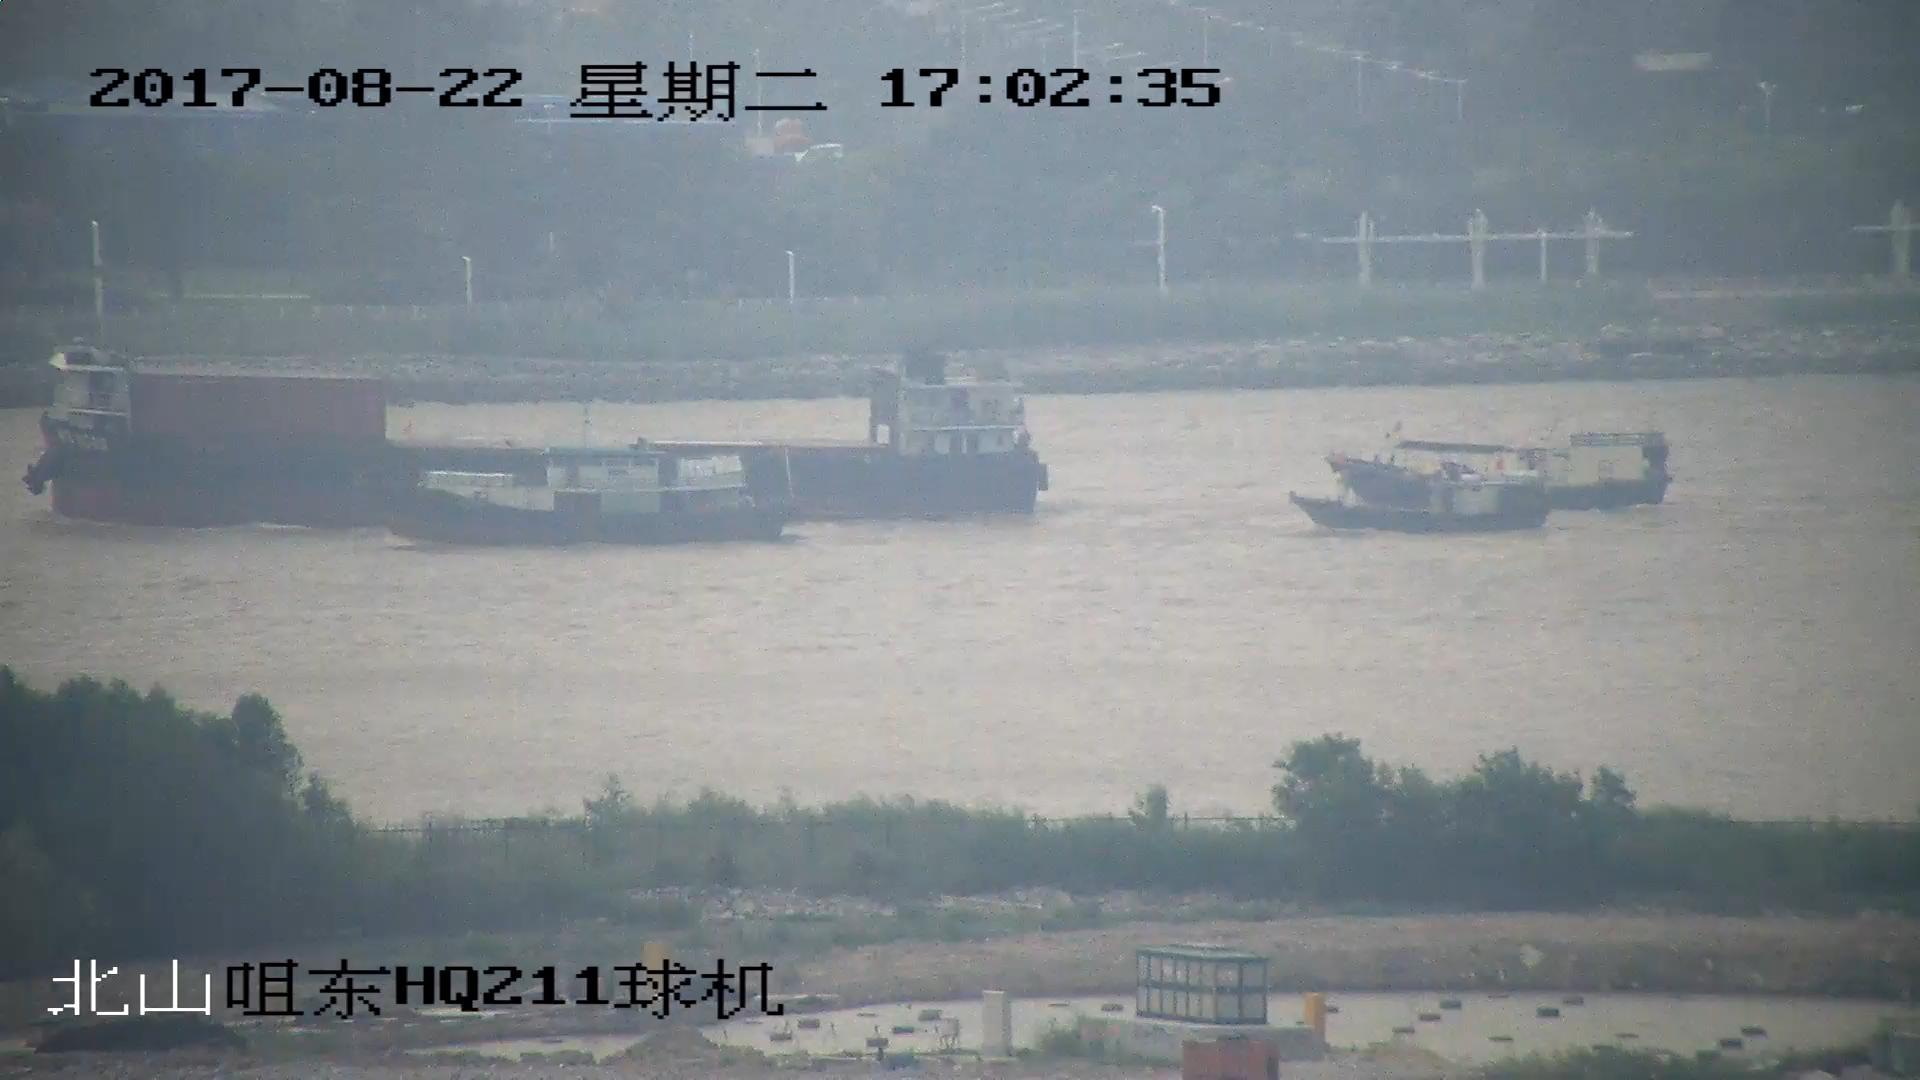Ship: (34, 320, 1048, 526), (375, 434, 789, 551), (1338, 425, 1675, 516), (1296, 469, 1545, 541)
